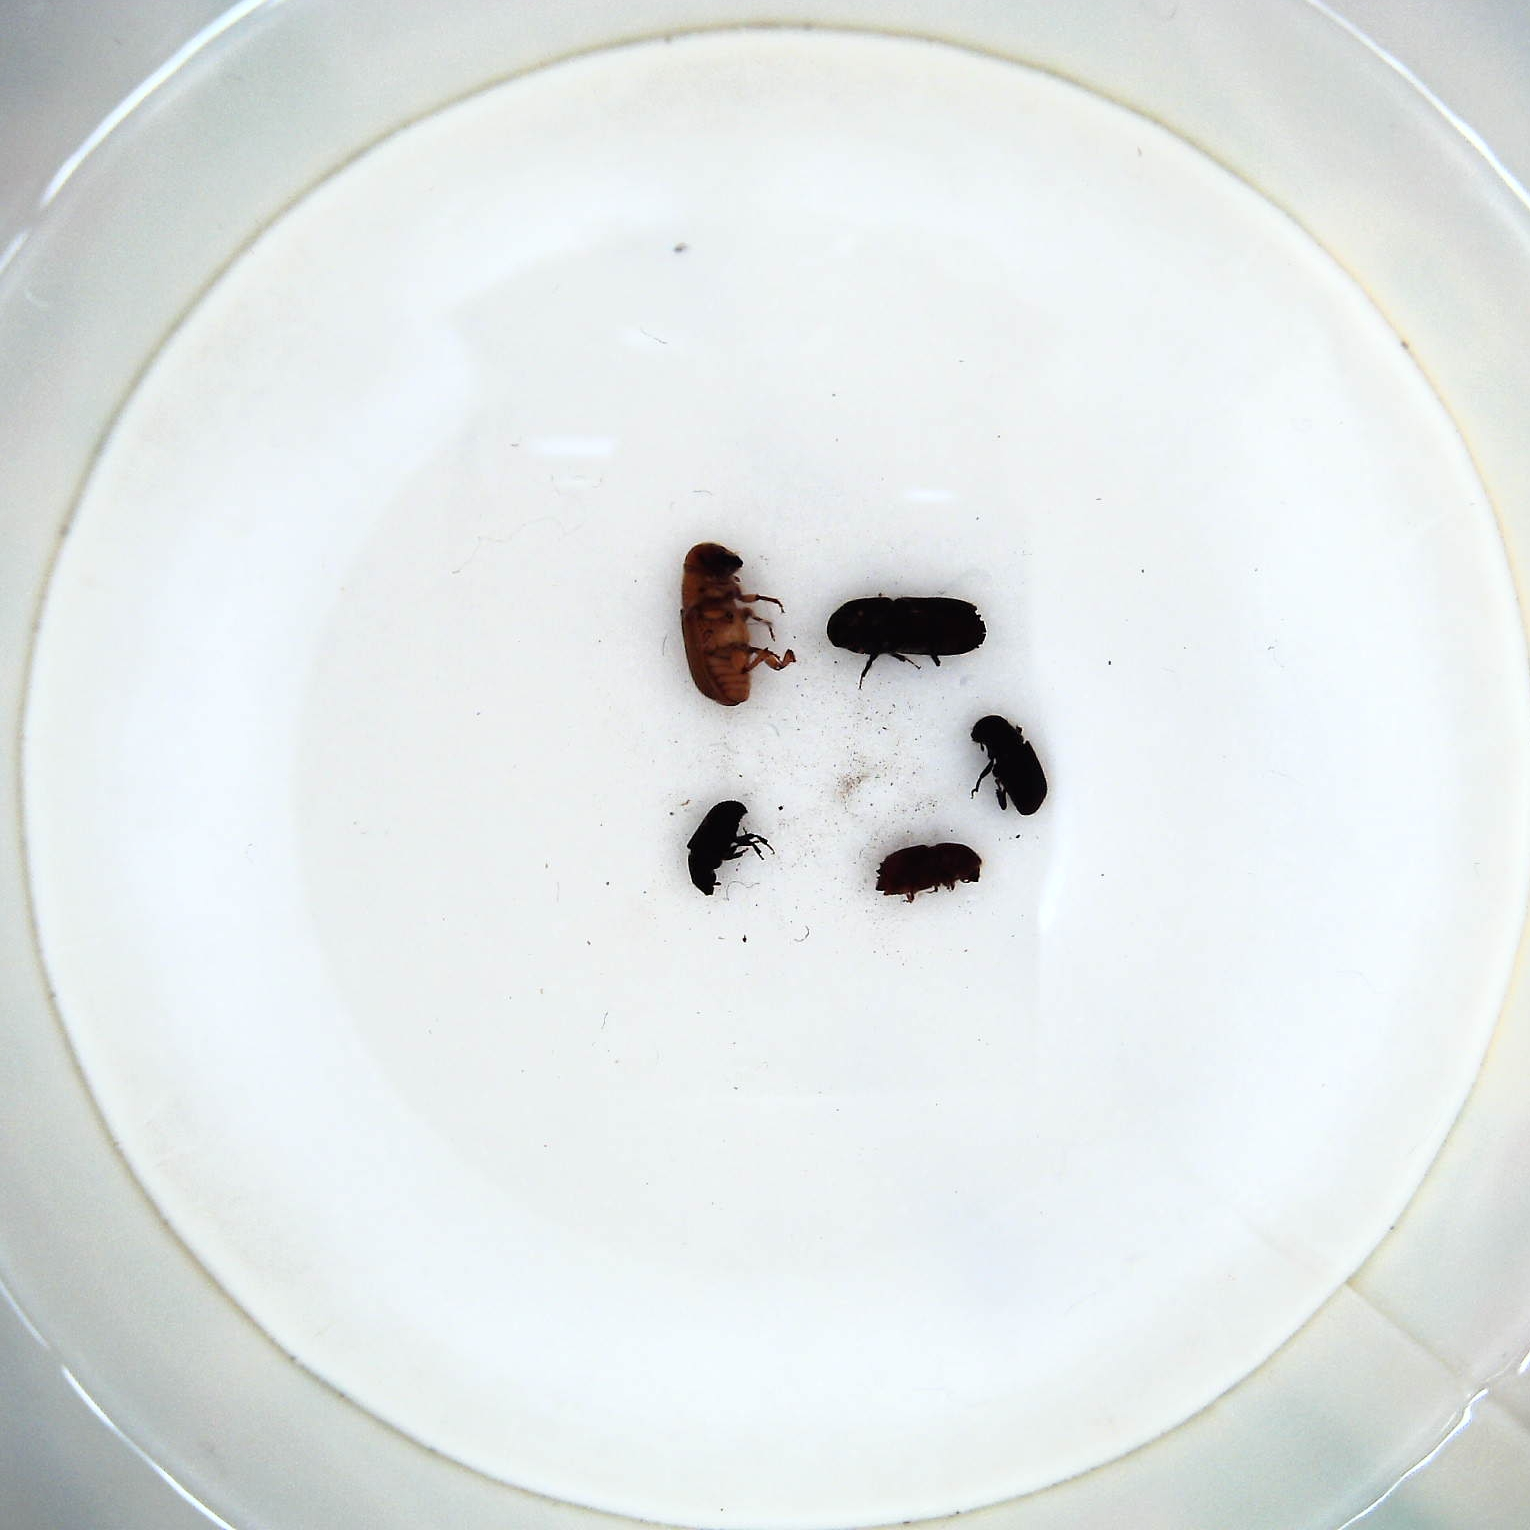Boerner: (822, 591, 999, 687)
Leconte: (675, 535, 806, 708)
armandi: (963, 706, 1055, 820)
coleoptera: (684, 794, 787, 898)
linnaeus: (870, 841, 993, 907)
